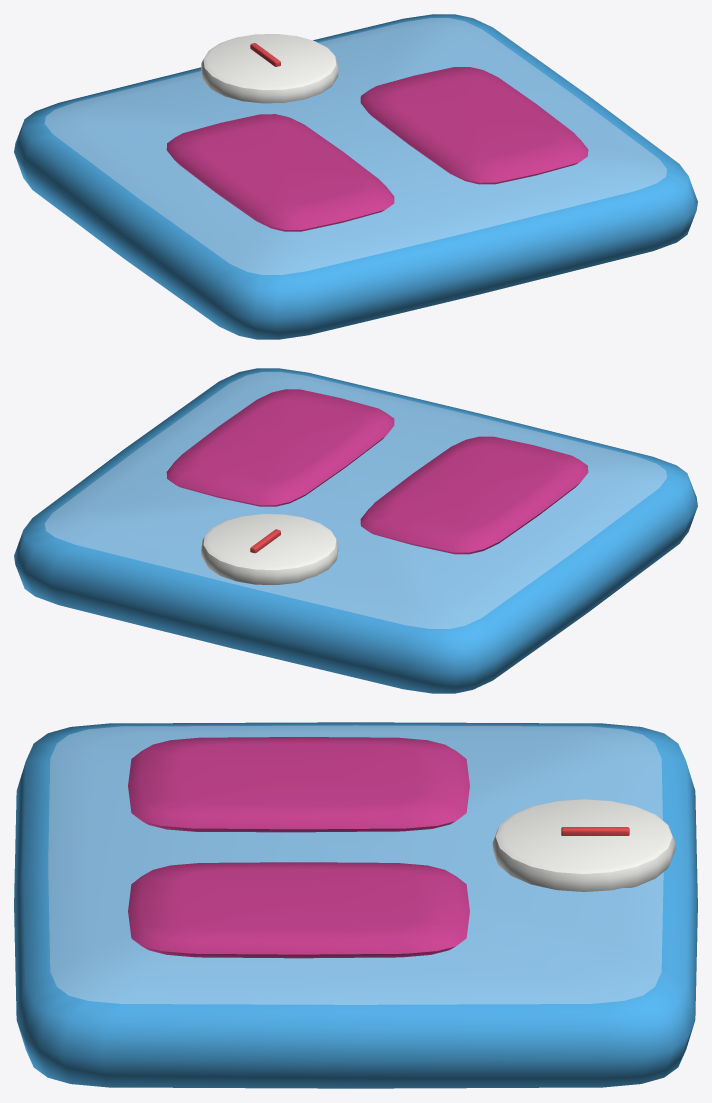
The model's file is balanca_banheiro_azul.glb.
3 views of the same model, one above another, from view 1: azimuth 30°, elevation 25°; view 2: azimuth 150°, elevation 25°; view 3: azimuth 270°, elevation 25° (orthographic). The views are drawn at different scales.
Visible parts, largest first — view 1: balanca_banheiro_azul; view 2: balanca_banheiro_azul; view 3: balanca_banheiro_azul.
Boxes of the visible parts, x1=… form: balanca_banheiro_azul: x1=14, y1=14, x2=697, y2=339; balanca_banheiro_azul: x1=14, y1=368, x2=697, y2=693; balanca_banheiro_azul: x1=14, y1=722, x2=697, y2=1088.
Size of the model in its own units: 0.32 by 0.06 by 0.3.
1 material, 1 textured.
